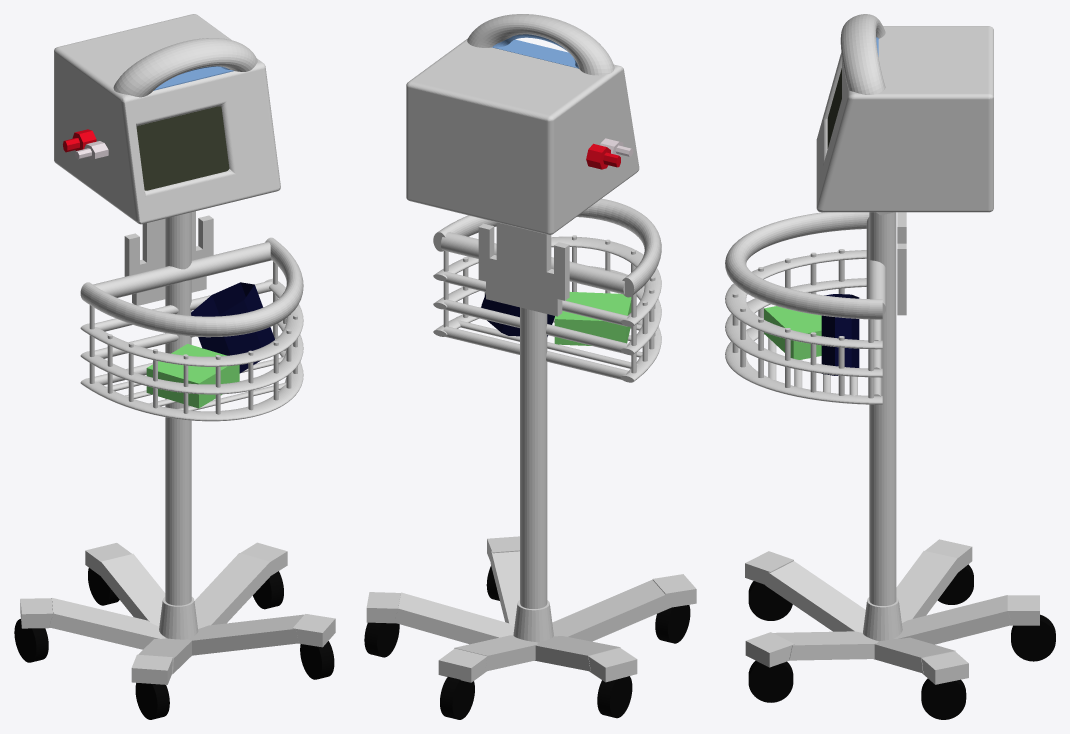
The model's file is monitoringDevice.fbx.
3 views of the same model, side by side, from view 1: azimuth 30°, elevation 25°; view 2: azimuth 150°, elevation 25°; view 3: azimuth 270°, elevation 25° (orthographic). The views are drawn at different scales.
Parts seen in each view (by area): view 1: Cube, Cube.004, Cylinder, Cube.001, Torus.001, Torus.005, Cube.006, Cylinder.007, Torus.002, Cylinder.029, Torus.003, Torus.004 (+10 smaller); view 2: Cube, Cube.004, Cylinder, Cube.006, Torus.005, Torus.001, Cube.003, Torus.002, Cylinder.007, Cylinder.021, Cylinder.022, Cylinder.001 (+10 smaller); view 3: Cube, Cube.004, Cylinder, Torus.001, Torus.002, Torus.005, Torus.003, Torus.004, Cube.003, Cylinder.029, Cylinder.005, Cylinder.004 (+6 smaller).
Part boxes in pixels (<box>): Cube: <box>54,14,280,224</box>; Cube.004: <box>20,542,335,684</box>; Cylinder: <box>165,212,191,605</box>; Cube.001: <box>136,106,229,190</box>; Torus.001: <box>80,237,303,337</box>; Torus.005: <box>113,38,257,97</box>; Cube.006: <box>124,211,213,305</box>; Cylinder.007: <box>93,242,271,297</box>; Torus.002: <box>80,278,303,366</box>; Cylinder.029: <box>191,282,274,373</box>; Torus.003: <box>80,320,303,394</box>; Torus.004: <box>80,335,303,421</box>; Cube: <box>406,38,639,234</box>; Cube.004: <box>366,536,696,682</box>; Cylinder: <box>520,307,547,608</box>; Cube.006: <box>478,222,569,316</box>; Torus.005: <box>467,14,614,75</box>; Torus.001: <box>433,198,661,297</box>; Cube.003: <box>554,292,631,345</box>; Torus.002: <box>433,236,661,326</box>; Cylinder.007: <box>441,232,627,294</box>; Cylinder.021: <box>443,326,630,379</box>; Cylinder.022: <box>444,299,629,353</box>; Cylinder.001: <box>513,600,553,660</box>; Cube: <box>816,26,993,212</box>; Cube.004: <box>745,539,1039,684</box>; Cylinder: <box>869,212,896,605</box>; Torus.001: <box>725,212,882,319</box>; Torus.002: <box>725,250,882,349</box>; Torus.005: <box>840,14,885,94</box>; Torus.003: <box>725,278,882,377</box>; Torus.004: <box>725,327,882,404</box>; Cube.003: <box>764,306,821,359</box>; Cylinder.029: <box>821,294,859,375</box>; Cylinder.005: <box>748,660,793,702</box>; Cylinder.004: <box>1011,614,1055,661</box>.
Bounding box in the file's own units: 322 × 724 × 344.
